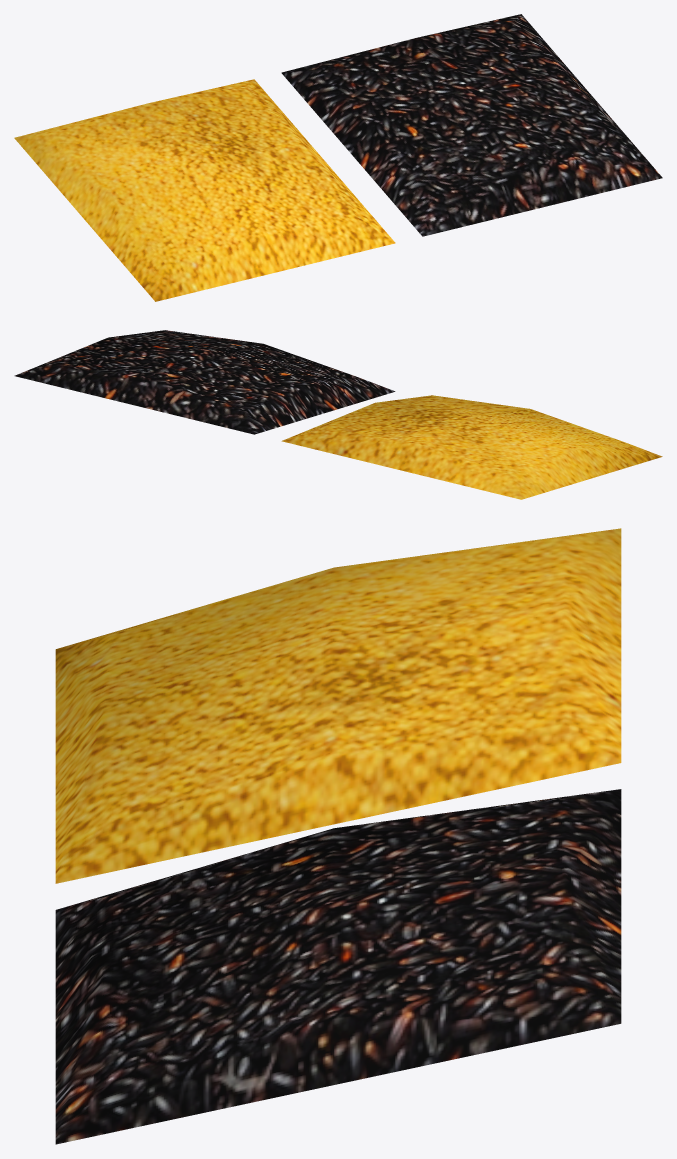
Rendered from grains-01.fbx.
3 renders of one model, top to bottom at view 1: azimuth 30°, elevation 25°; view 2: azimuth 150°, elevation 25°; view 3: azimuth 270°, elevation 25°, orthographic. The views are drawn at different scales.
Parts seen in each view (by area): view 1: Cube.009_Cube.003_Cube.009_Cube.000; view 2: Cube.009_Cube.003_Cube.009_Cube.000; view 3: Cube.009_Cube.003_Cube.009_Cube.000.
Boxes of the visible parts, x1=… form: Cube.009_Cube.003_Cube.009_Cube.000: x1=14, y1=14, x2=662, y2=301; Cube.009_Cube.003_Cube.009_Cube.000: x1=14, y1=330, x2=662, y2=499; Cube.009_Cube.003_Cube.009_Cube.000: x1=55, y1=528, x2=621, y2=1144.
Bounding box in the file's own units: 1.51 × 0.2166 × 0.729.
